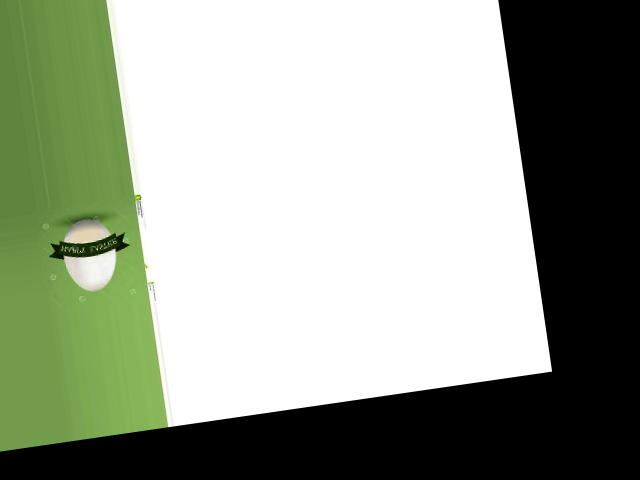egg: (60, 215, 121, 294)
